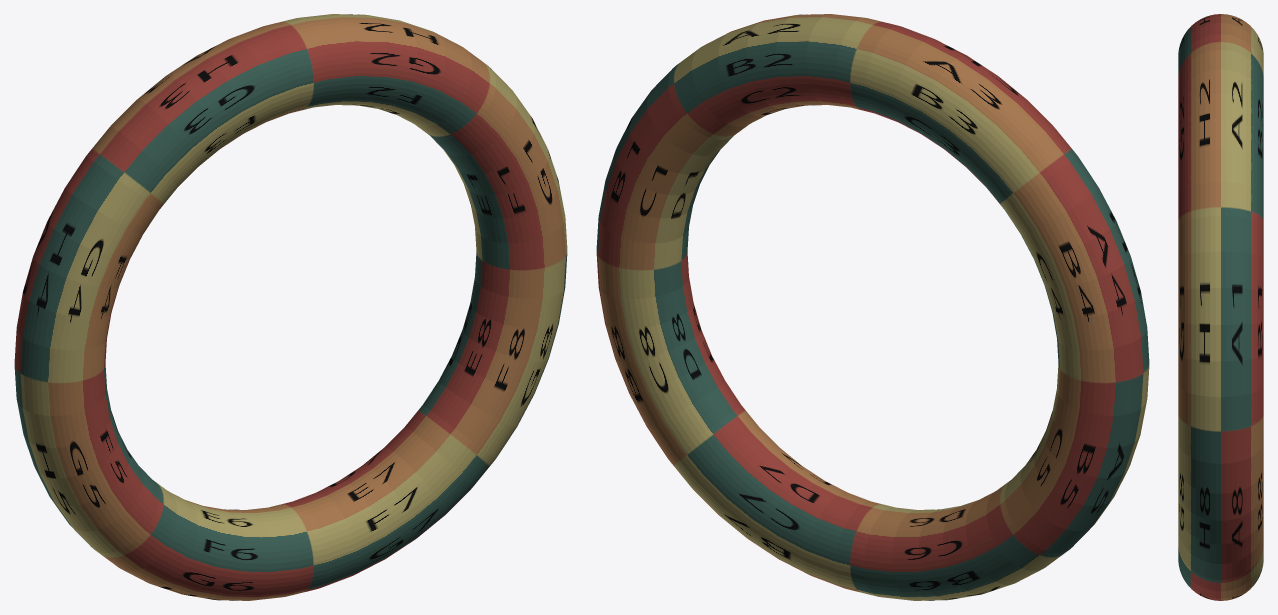
The model's file is texture_torus_R26_r10.glb.
3 views of the same model, side by side, from view 1: azimuth 30°, elevation 25°; view 2: azimuth 150°, elevation 25°; view 3: azimuth 270°, elevation 25° (orthographic). The views are drawn at different scales.
Visible parts, largest first — view 1: world; view 2: world; view 3: world.
Boxes of the visible parts, bbox=[...] form: world: bbox=[14, 14, 567, 600]; world: bbox=[596, 14, 1149, 600]; world: bbox=[1178, 14, 1263, 600].
Bounding box in the file's own units: 32 × 31.94 × 4.66.
Materials: 1 (1 with a texture image).
